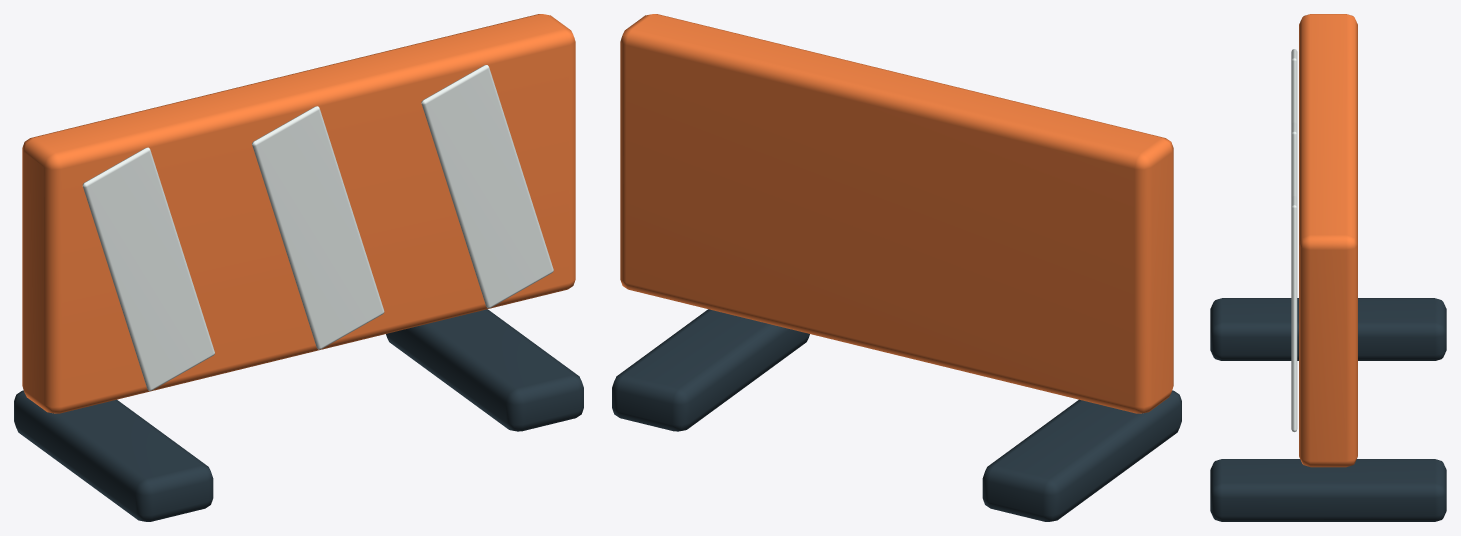
Rendered from barrier.glb.
3 views of the same model, side by side, from view 1: azimuth 30°, elevation 25°; view 2: azimuth 150°, elevation 25°; view 3: azimuth 270°, elevation 25° (orthographic). The views are drawn at different scales.
Parts seen in each view (by area): view 1: Barrier panel, Reflective stripe, Reflective stripe.001, Reflective stripe.002, Barrier foot, Barrier foot.001; view 2: Barrier panel, Barrier foot, Barrier foot.001; view 3: Barrier panel, Barrier foot.001, Barrier foot, Reflective stripe.002, Reflective stripe.001, Reflective stripe.
Boxes of the visible parts, box(x1,y1,x2,y2) form: Barrier panel: box(22, 14, 575, 413); Reflective stripe: box(82, 147, 214, 390); Reflective stripe.001: box(252, 106, 384, 349); Reflective stripe.002: box(421, 65, 553, 308); Barrier foot: box(14, 390, 213, 521); Barrier foot.001: box(386, 309, 583, 431); Barrier panel: box(620, 14, 1173, 413); Barrier foot: box(982, 390, 1181, 521); Barrier foot.001: box(612, 309, 809, 431); Barrier panel: box(1299, 14, 1357, 467); Barrier foot.001: box(1210, 459, 1446, 521); Barrier foot: box(1210, 298, 1446, 360); Reflective stripe.002: box(1291, 196, 1297, 432); Reflective stripe.001: box(1291, 122, 1297, 198); Reflective stripe: box(1291, 49, 1297, 124).
Bounding box in the file's own units: 1.66 × 1.02 × 0.72.
